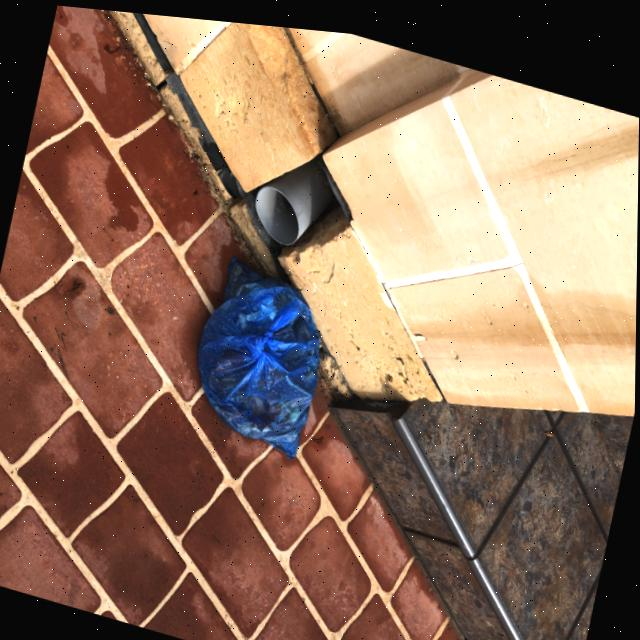Other: (169, 239, 351, 460)
